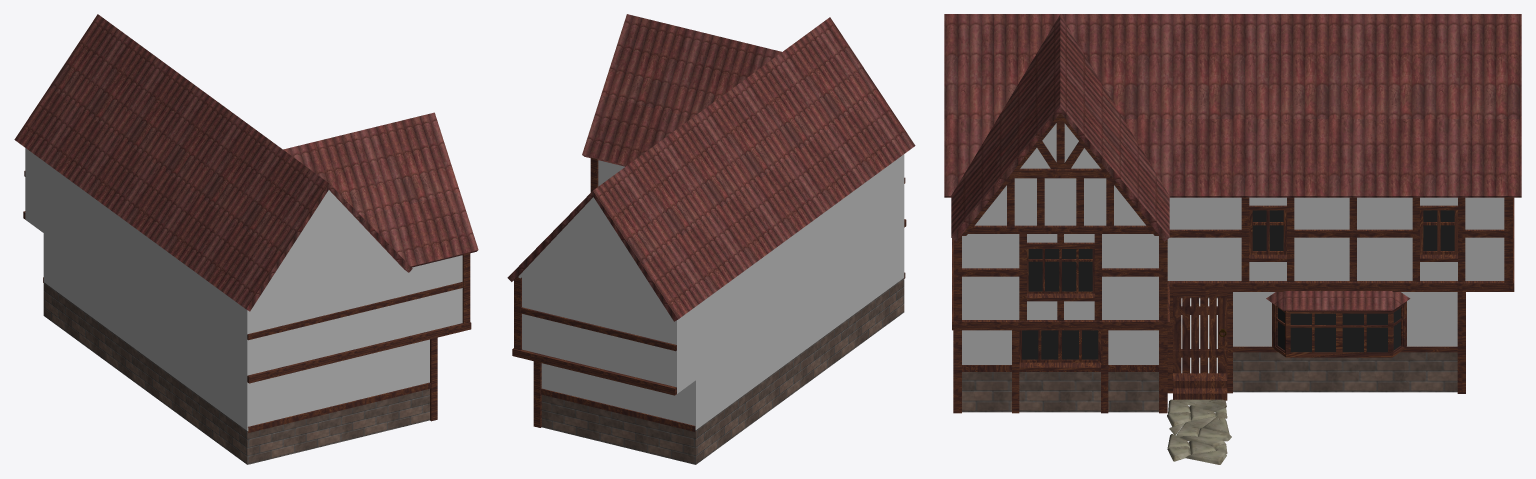
Rendered from House 10.fbx.
3 views of the same model, side by side, from view 1: azimuth 30°, elevation 25°; view 2: azimuth 150°, elevation 25°; view 3: azimuth 270°, elevation 25° (orthographic). The views are drawn at different scales.
Parts seen in each view (by area): view 1: House 4.002, House 4.013, Cube.051; view 2: House 4.013, House 4.002, Cube.051; view 3: House 4.013, House 4.002, Cube.051, House 4.017, House 4.003, House 4.014, copia piso .033.
Part boxes in pixels (box(x1,y1,x2,y2)): House 4.002: box(25, 148, 462, 464); House 4.013: box(14, 14, 478, 311); Cube.051: box(23, 171, 471, 432); House 4.013: box(507, 14, 915, 321); House 4.002: box(518, 154, 904, 464); Cube.051: box(512, 157, 906, 431); House 4.013: box(944, 14, 1521, 310); House 4.002: box(962, 123, 1504, 412); Cube.051: box(952, 113, 1514, 413); House 4.017: box(1019, 210, 1457, 362); House 4.003: box(1272, 301, 1406, 357); House 4.014: box(1173, 297, 1227, 373); copia piso .033: box(1167, 399, 1231, 464).
Size of the model in its own units: 1756 by 1619 by 2538.
